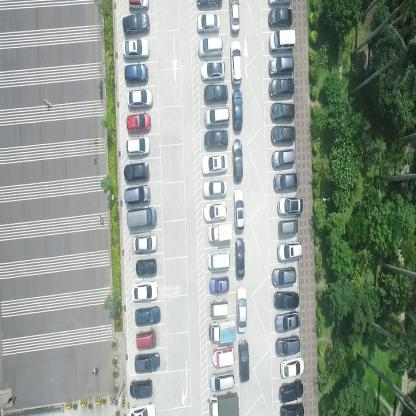car: (208, 390, 240, 415), (268, 27, 296, 54), (126, 205, 157, 228), (122, 11, 150, 35), (279, 354, 305, 379), (278, 378, 304, 403), (197, 35, 224, 59), (131, 279, 159, 302), (209, 368, 234, 393), (134, 304, 161, 327), (201, 152, 228, 175), (209, 319, 236, 342), (126, 88, 154, 110), (122, 38, 150, 60), (268, 53, 294, 76), (134, 350, 160, 373), (200, 59, 226, 82), (204, 105, 230, 128), (123, 183, 151, 204), (195, 12, 220, 35), (203, 200, 228, 223), (212, 343, 235, 368), (124, 62, 149, 85), (274, 311, 300, 333), (276, 240, 302, 262), (274, 334, 300, 356), (278, 194, 304, 216), (270, 123, 296, 145), (268, 77, 294, 99), (203, 82, 229, 104), (271, 147, 295, 170), (230, 39, 242, 85), (236, 283, 247, 333), (129, 376, 154, 398), (126, 111, 151, 133), (124, 160, 150, 181), (207, 221, 233, 242), (238, 338, 250, 383), (232, 137, 244, 182), (233, 188, 245, 233), (231, 88, 243, 132), (271, 265, 296, 286), (268, 7, 293, 28), (273, 171, 299, 191), (269, 102, 295, 122), (126, 135, 150, 156), (133, 233, 158, 253), (202, 178, 227, 198), (206, 250, 231, 270), (234, 235, 245, 280), (273, 290, 299, 309), (203, 130, 229, 148), (135, 327, 156, 349), (135, 257, 157, 277), (208, 297, 228, 319), (209, 275, 230, 295), (228, 0, 240, 34), (129, 400, 156, 415), (277, 218, 298, 236), (279, 401, 305, 415), (196, 0, 223, 9), (128, 0, 150, 11)
